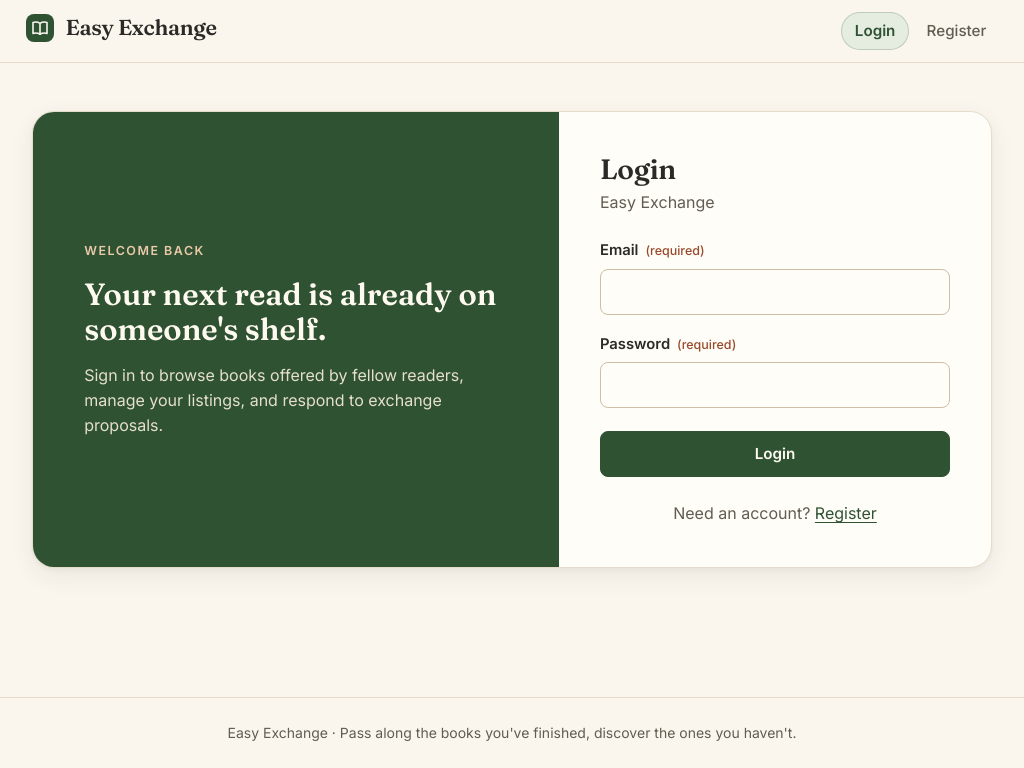
it: App authentication › registers a new user
Click the 1st link "Register".
click(956, 31)  # box [927, 21, 986, 40]
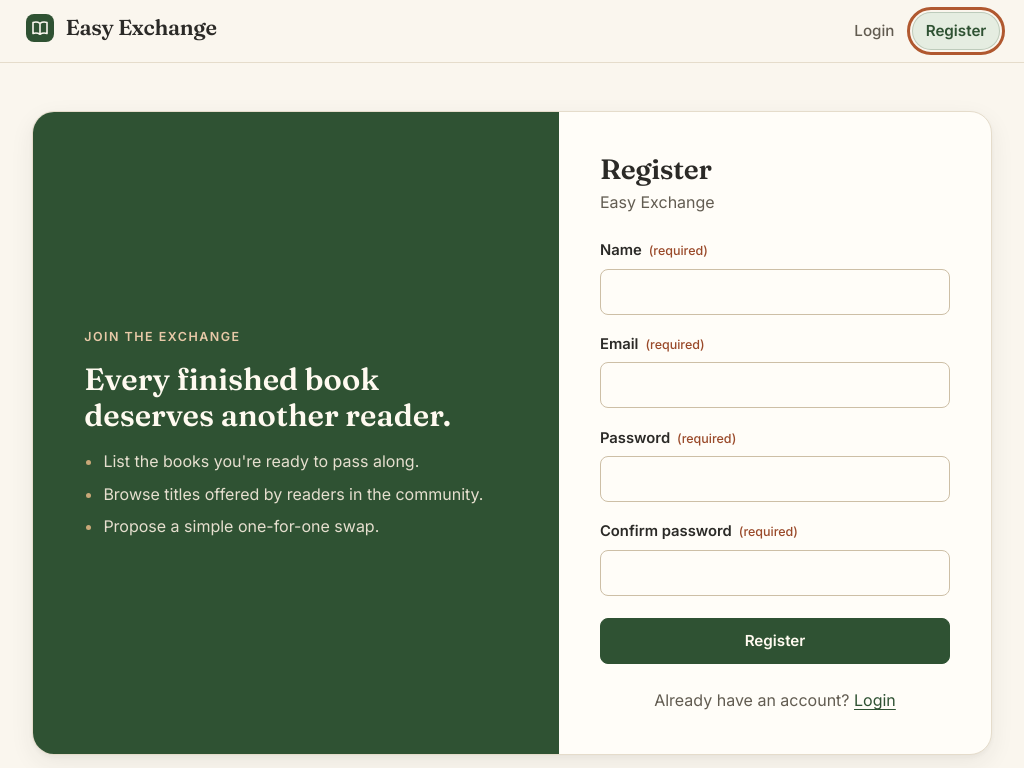
Type "Alex" into the field labelled "Name (required)".
click(775, 292); type("Alex")  # box [600, 269, 950, 315]
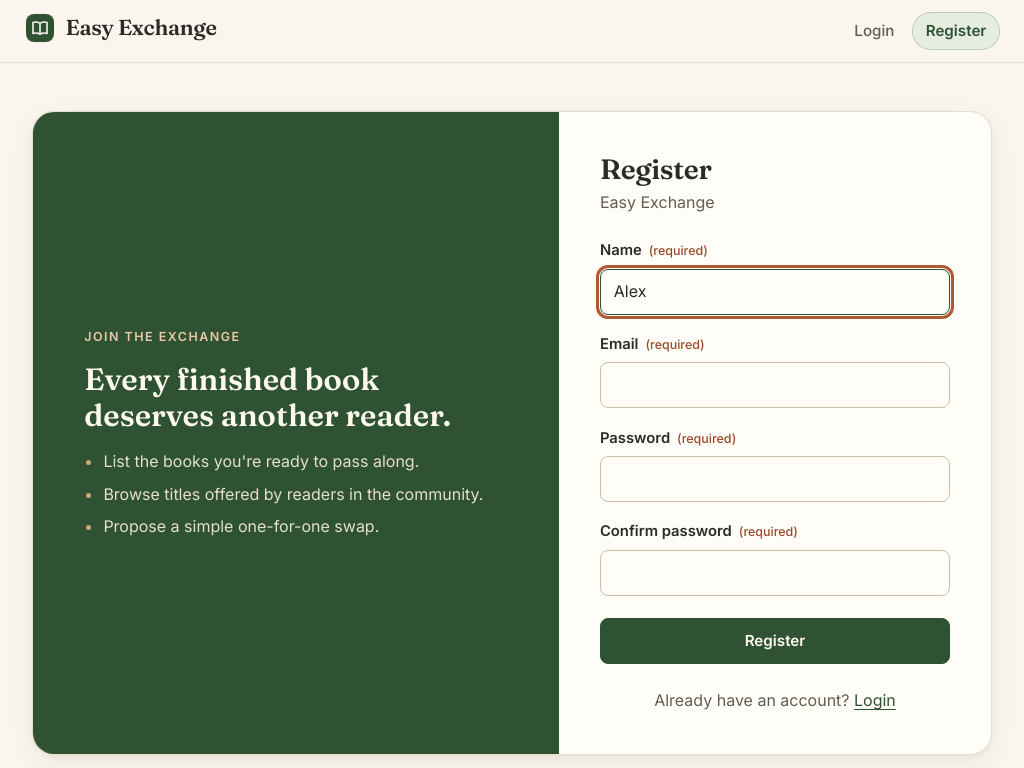
Type "alex@example.com" into the field labelled "Email (required)".
click(775, 385); type("alex@example.com")  # box [600, 362, 950, 408]
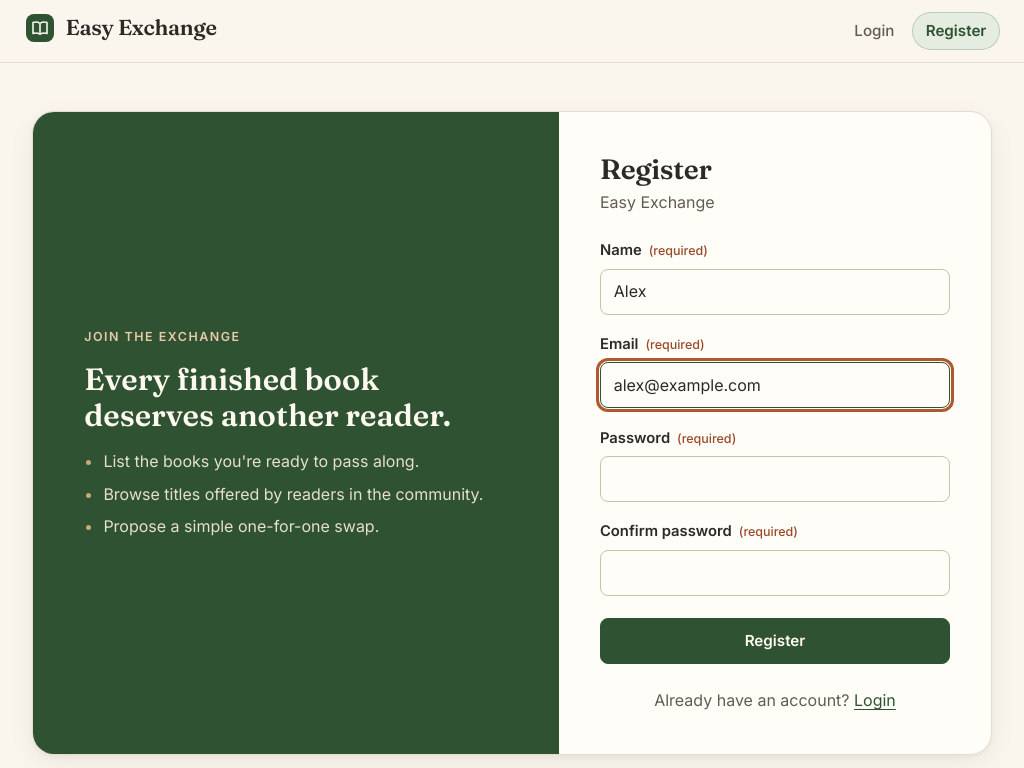
Type "password123" into the password field labelled "Password (required)".
click(775, 479); type("password123")  # box [600, 456, 950, 502]
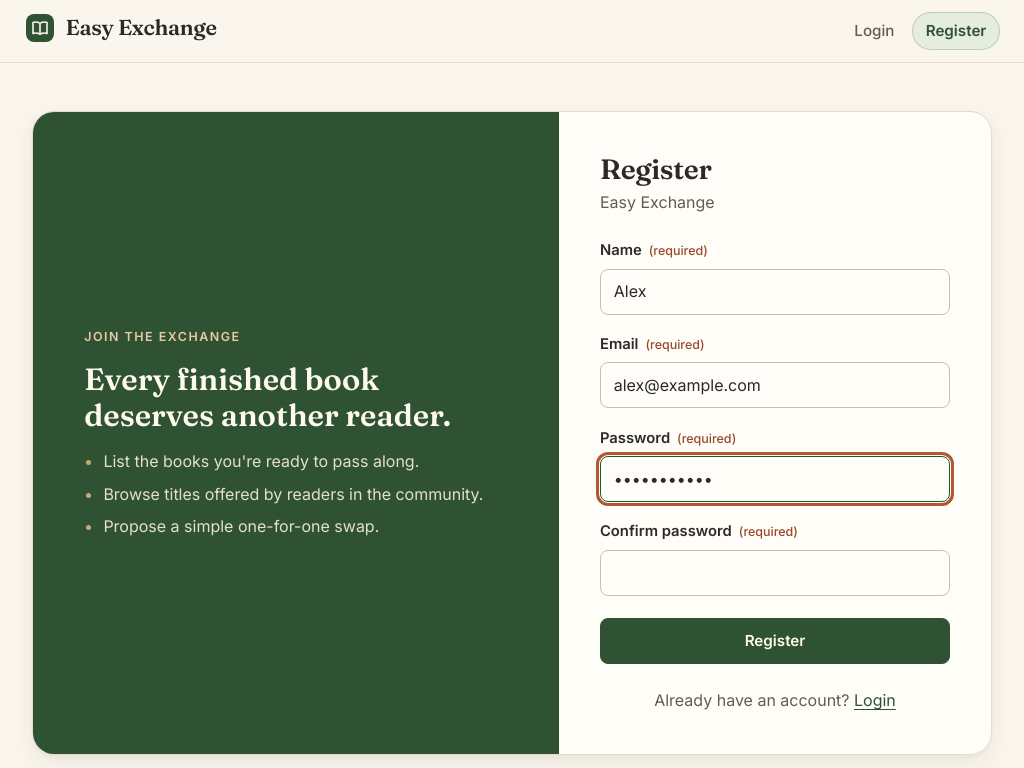
Type "password123" into the password field labelled "Confirm password (required)".
click(775, 573); type("password123")  # box [600, 550, 950, 596]
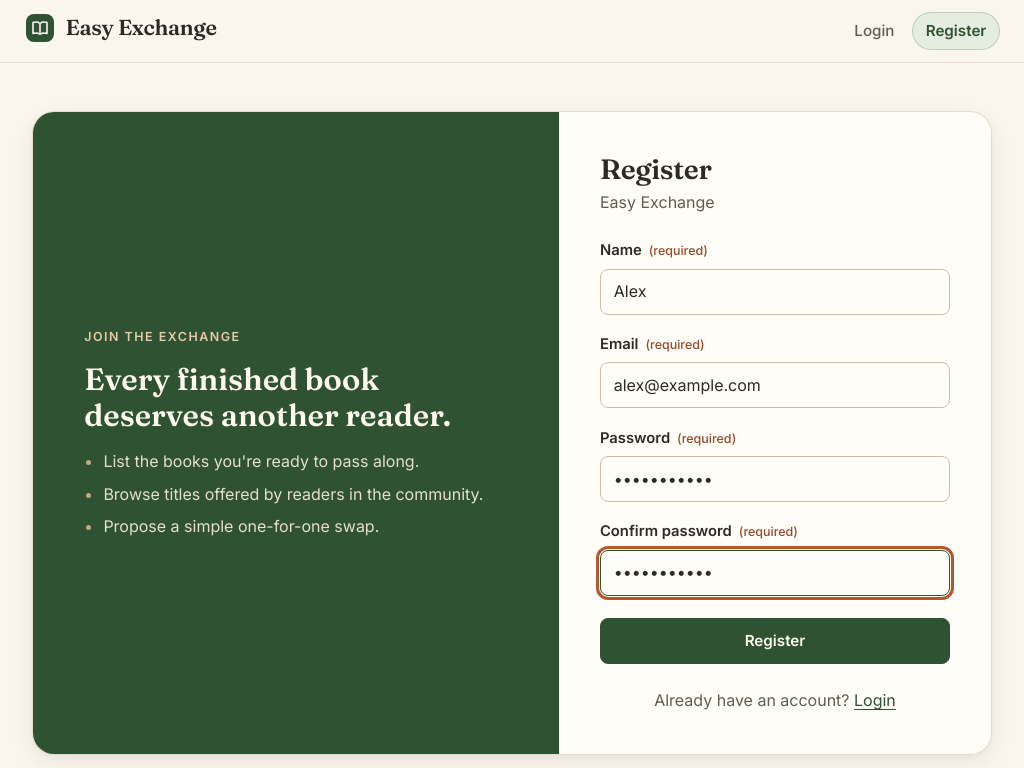
Click the button "Register".
click(775, 641)  # box [600, 618, 950, 664]
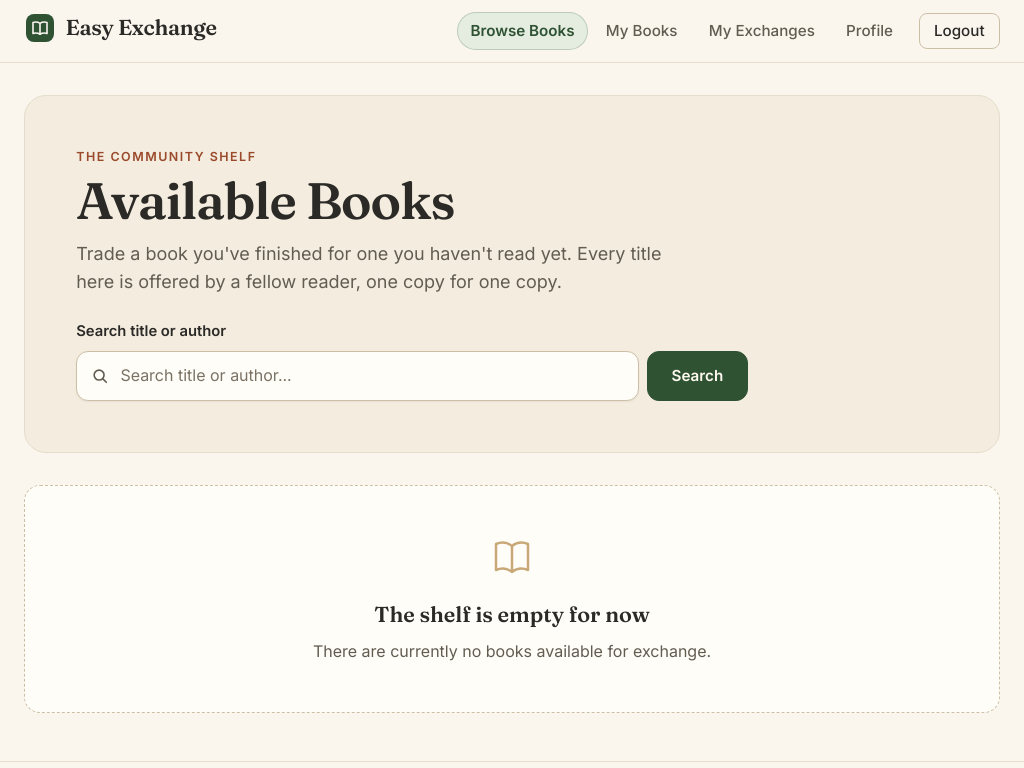
Result: the heading "Available Books" is shown at [76, 170, 454, 232]
